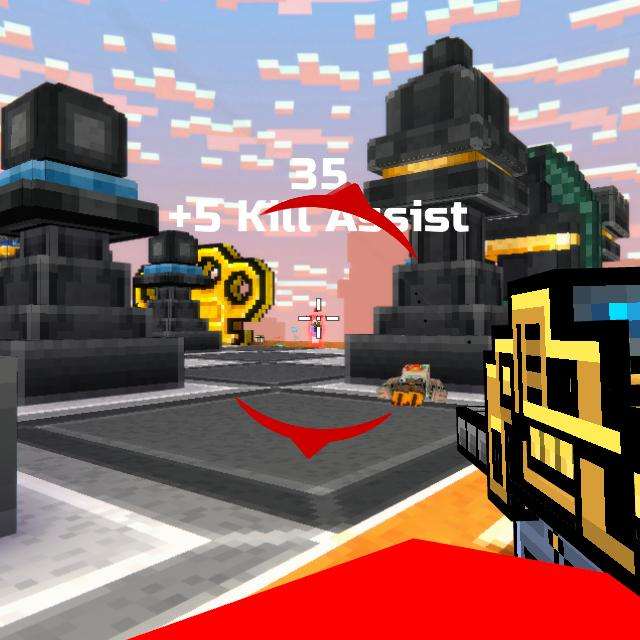Enemy: (310, 319, 323, 343)
